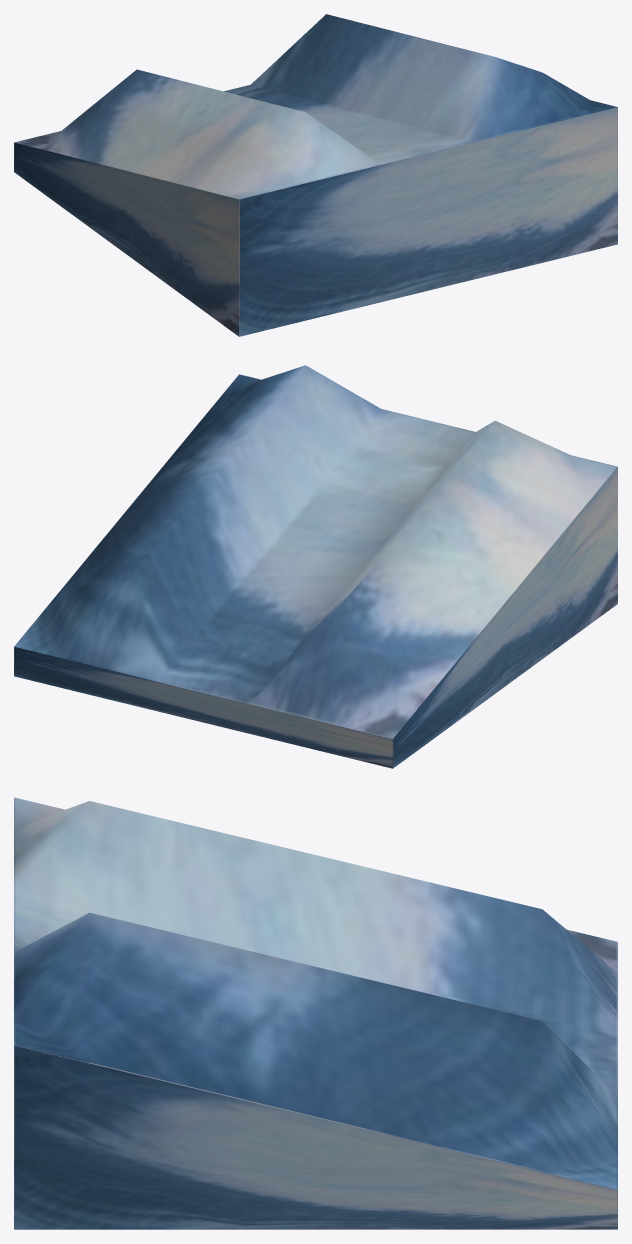
File: 尾碛堤.gltf
3 renders of one model, top to bottom at view 1: azimuth 30°, elevation 25°; view 2: azimuth 150°, elevation 25°; view 3: azimuth 270°, elevation 25°, orthographic. The views are drawn at different scales.
Visible parts, largest first — view 1: node_Box001_-65016; view 2: node_Box001_-65016; view 3: node_Box001_-65016.
Part boxes in pixels (bbox=[...]): node_Box001_-65016: bbox=[14, 14, 617, 336]; node_Box001_-65016: bbox=[14, 365, 617, 768]; node_Box001_-65016: bbox=[14, 797, 617, 1229].
Bounding box in the file's own units: 2.25 × 1.08 × 2.31.
